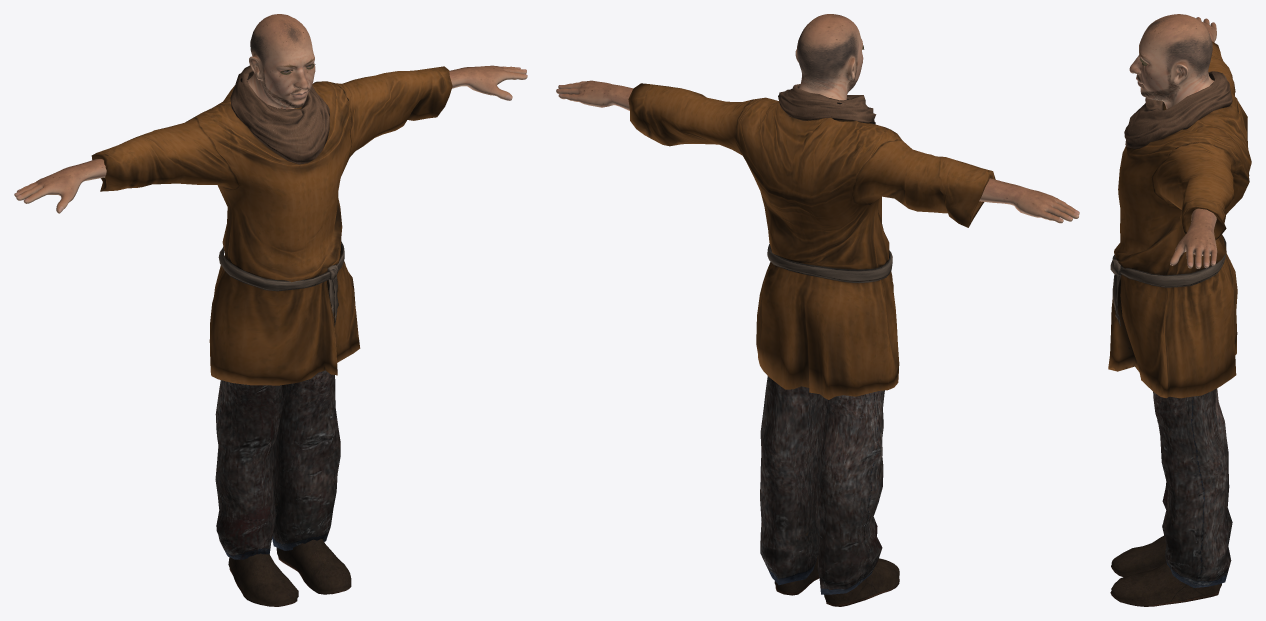
Rendered from Male V3.obj.
3 views of the same model, side by side, from view 1: azimuth 30°, elevation 25°; view 2: azimuth 150°, elevation 25°; view 3: azimuth 270°, elevation 25° (orthographic). The views are drawn at different scales.
Parts seen in each view (by area): view 1: Tops, Bottoms, Body, Shoes; view 2: Tops, Bottoms, Body, Shoes; view 3: Tops, Bottoms, Body, Shoes.
Part boxes in pixels (x1,y1,x2,y2): Tops: (91,65,452,385); Bottoms: (215,370,340,559); Body: (14,14,527,213); Shoes: (228,503,351,606); Tops: (628,83,995,399); Bottoms: (760,376,884,594); Body: (556,14,1079,223); Shoes: (774,531,899,606); Tops: (1108,41,1251,398); Bottoms: (1153,388,1232,587); Body: (1129,14,1217,268); Shoes: (1110,535,1221,606).
Size of the model in its own units: 168 by 176 by 40.41.
4 materials, 4 textured.
